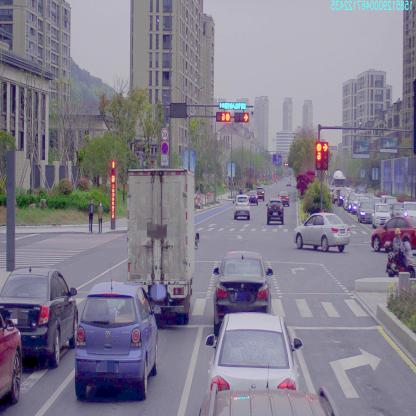traffic-light: (218, 101, 246, 111), (236, 113, 249, 122), (216, 111, 230, 119)
